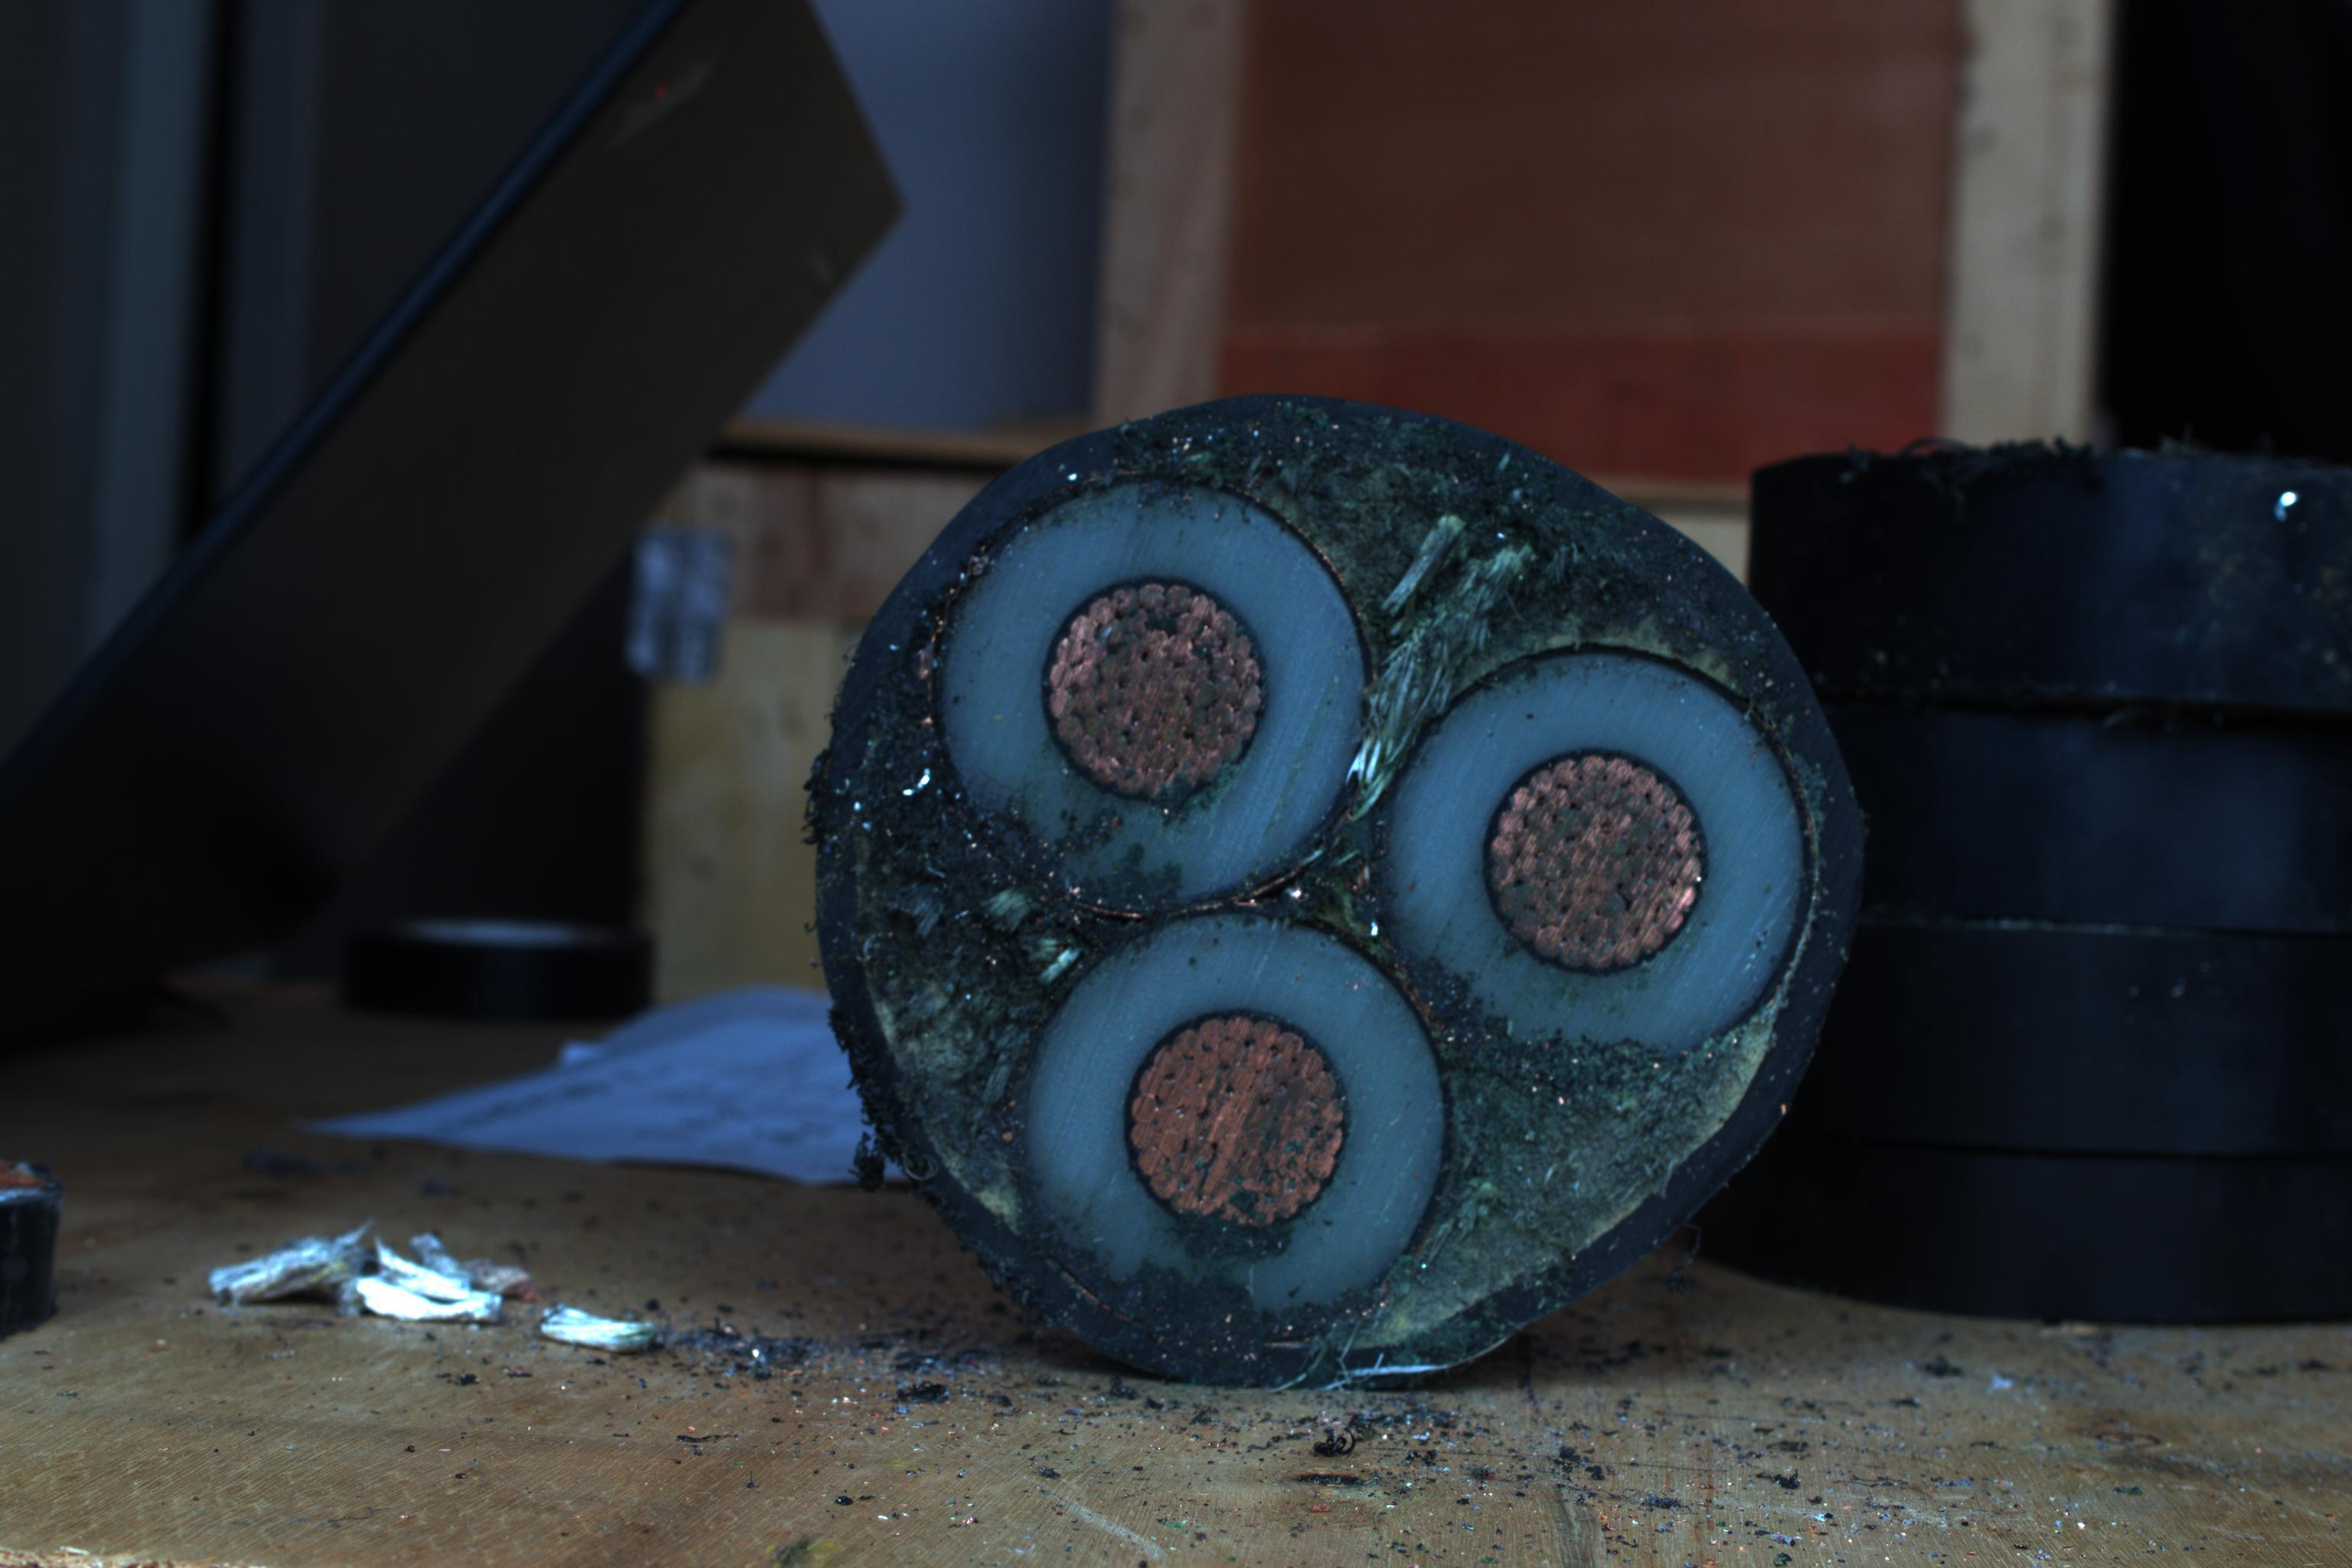ZA_YJV_26_35kV_3x400: (793, 387, 1883, 1391)
